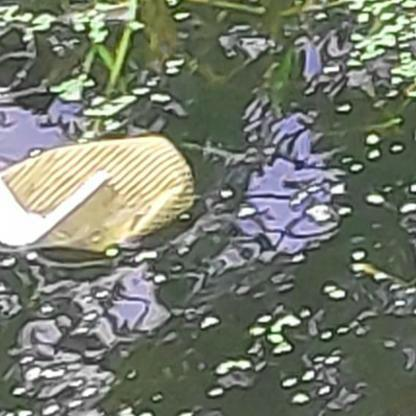Trash: (0, 133, 197, 251)
